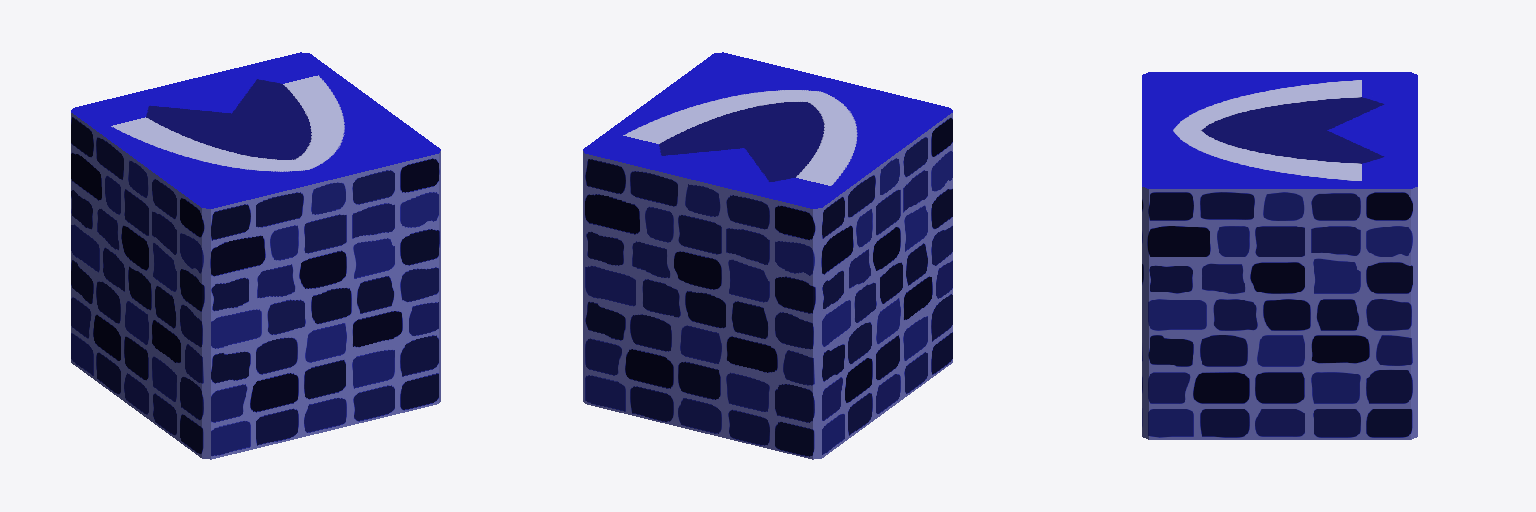
3 views of the same model, side by side, from view 1: azimuth 30°, elevation 25°; view 2: azimuth 150°, elevation 25°; view 3: azimuth 270°, elevation 25° (orthographic).
Visible parts, largest first — view 1: Entry_Block; view 2: Entry_Block; view 3: Entry_Block.
Boxes of the visible parts, x1=… form: Entry_Block: x1=71, y1=52, x2=440, y2=459; Entry_Block: x1=583, y1=52, x2=952, y2=459; Entry_Block: x1=1142, y1=72, x2=1417, y2=439.
Size of the model in its own units: 2 by 2 by 2.
1 materials, 1 textured.